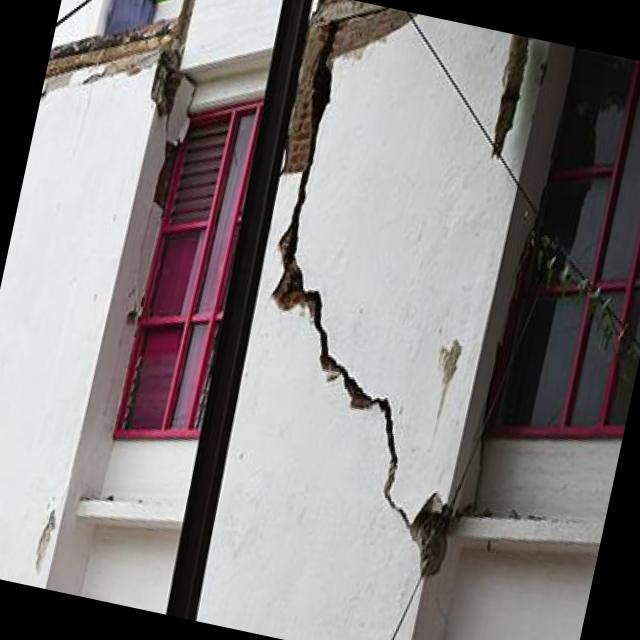crack: (273, 5, 494, 579), (40, 0, 197, 218), (491, 36, 533, 154), (432, 339, 461, 438), (34, 508, 57, 573)
